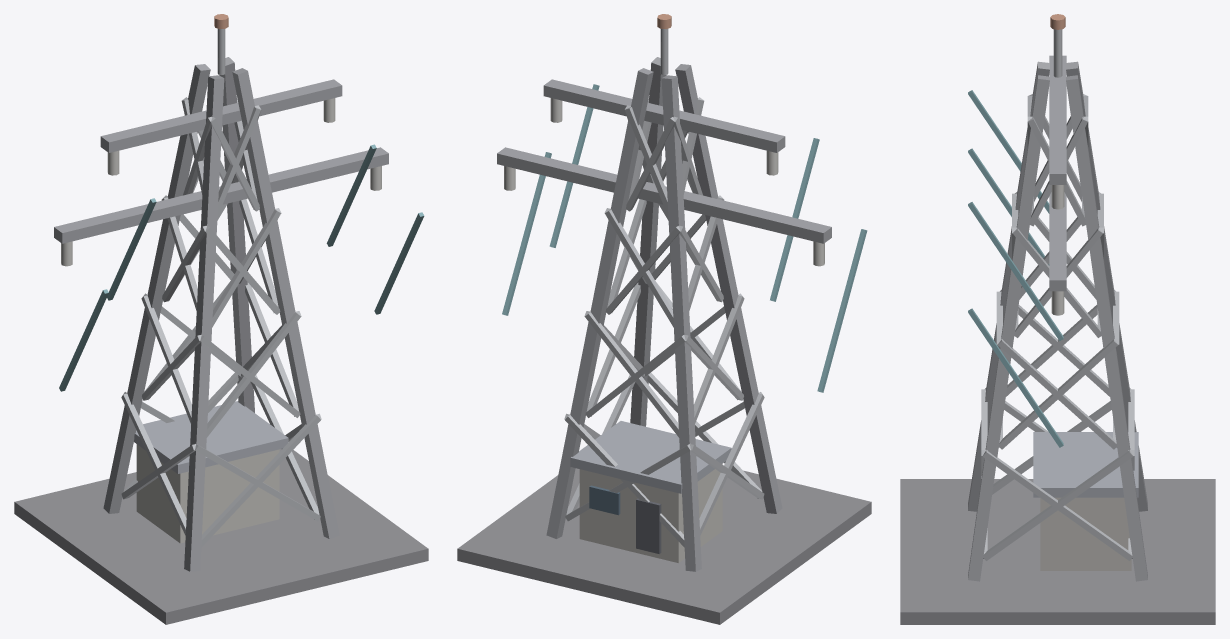
File: kind-relay-pylon.glb
3 views of the same model, side by side, from view 1: azimuth 30°, elevation 25°; view 2: azimuth 150°, elevation 25°; view 3: azimuth 270°, elevation 25° (orthographic). The views are drawn at different scales.
Parts seen in each view (by area): view 1: kind-relay-pylon; view 2: kind-relay-pylon; view 3: kind-relay-pylon.
Part boxes in pixels (left/top/right/bottom): kind-relay-pylon: left=14, top=14, right=428, bottom=624; kind-relay-pylon: left=457, top=14, right=871, bottom=624; kind-relay-pylon: left=900, top=14, right=1215, bottom=624.
Size of the model in its own units: 1.12 by 1.71 by 0.9.
